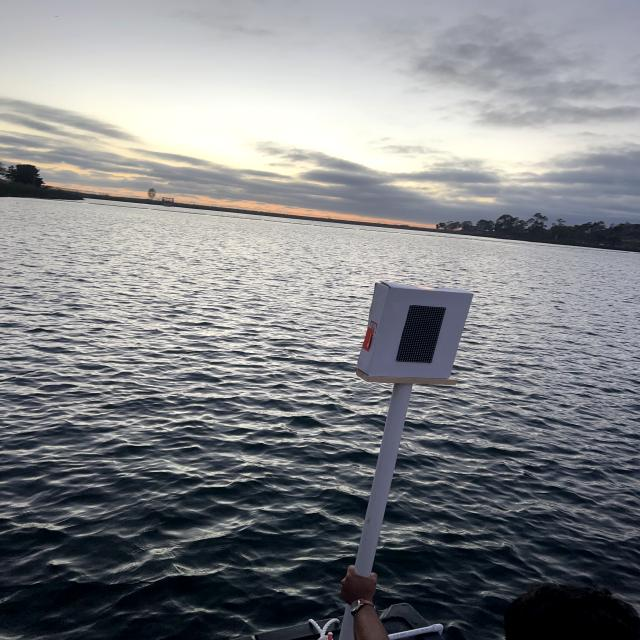led: (388, 288, 444, 377)
